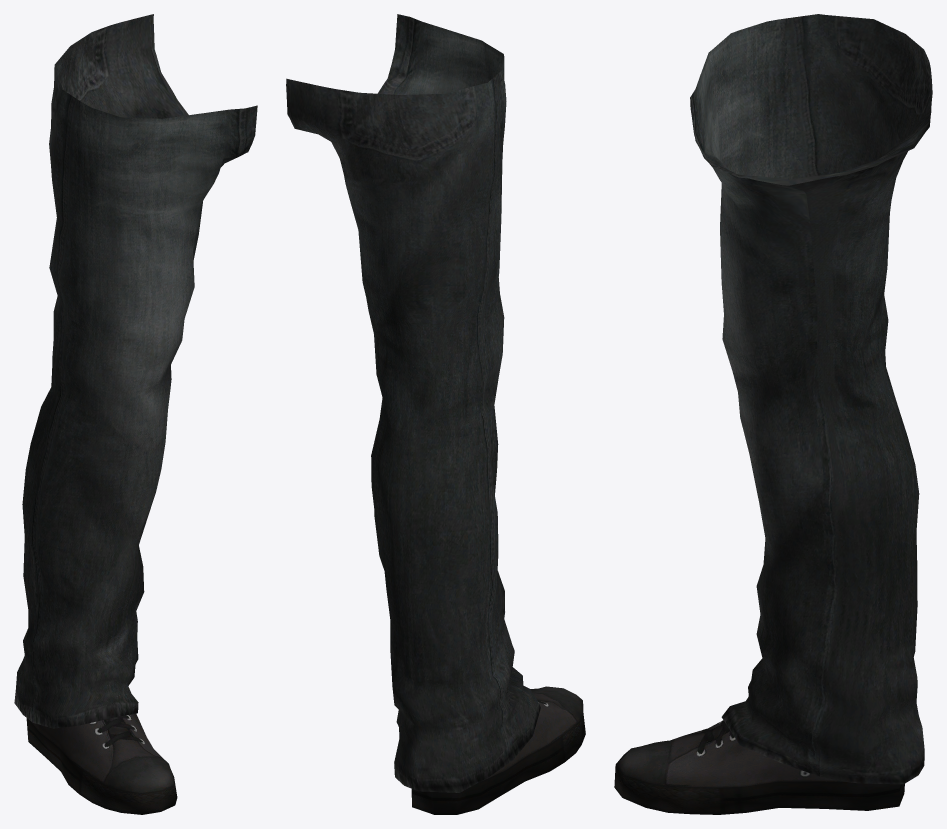
The model's file is derechaP.obj.
The picture shows the model from 3 angles, left to right: view 1: azimuth 30°, elevation 25°; view 2: azimuth 150°, elevation 25°; view 3: azimuth 270°, elevation 25°; orthographic projection. The views are drawn at different scales.
Visible parts, largest first — view 1: derechaP_Harry_clothes2.003; view 2: derechaP_Harry_clothes2.003; view 3: derechaP_Harry_clothes2.003.
Boxes of the visible parts, bbox=[...] form: derechaP_Harry_clothes2.003: bbox=[14, 14, 257, 814]; derechaP_Harry_clothes2.003: bbox=[286, 14, 585, 814]; derechaP_Harry_clothes2.003: bbox=[614, 14, 932, 814].
Size of the model in its own units: 0.4736 by 1.81 by 0.6678.
